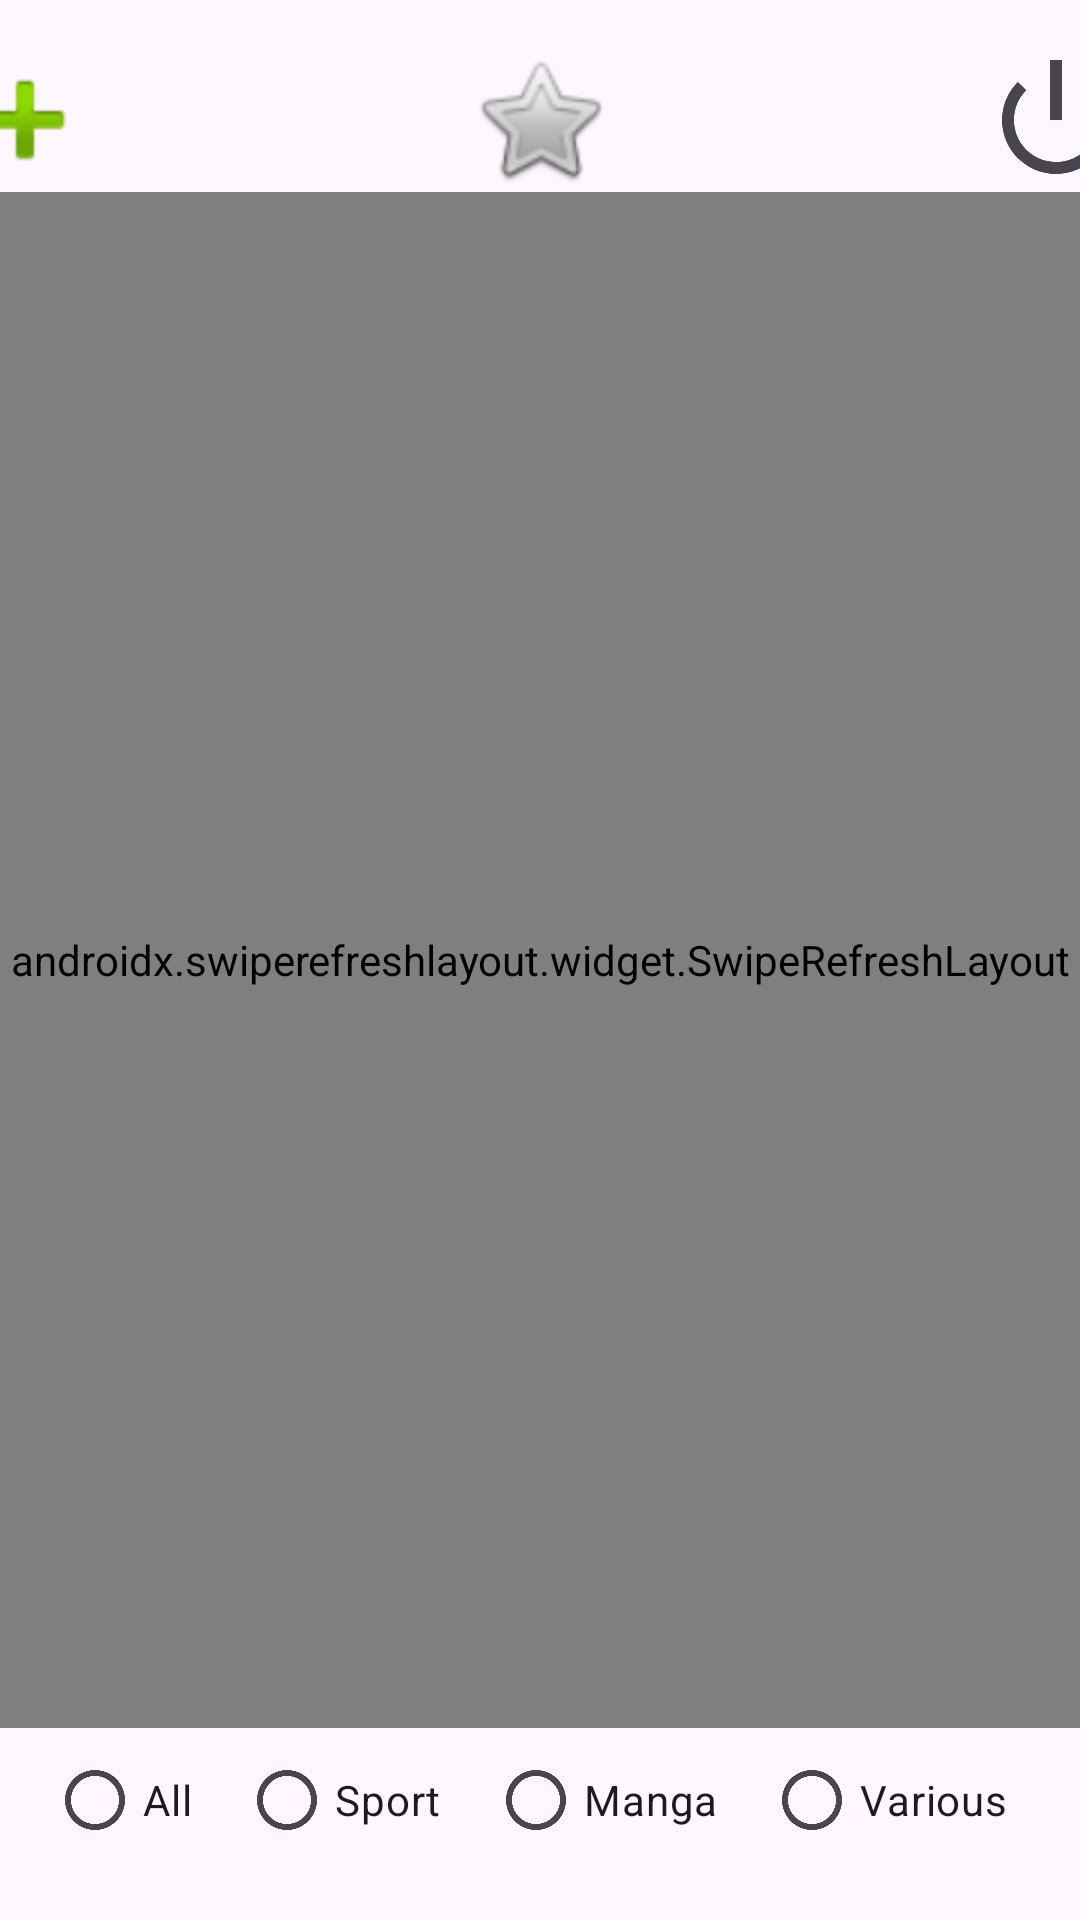

Screen size 1080 x 1920. Icon name, then its center in pixels as [x,y]:
Show Favorite: [541,121]
